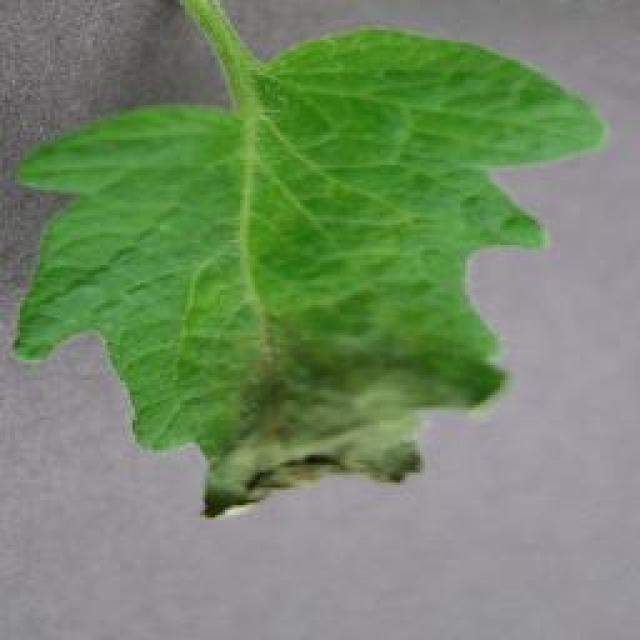Tomato Late Blight: (223, 387, 460, 510)
